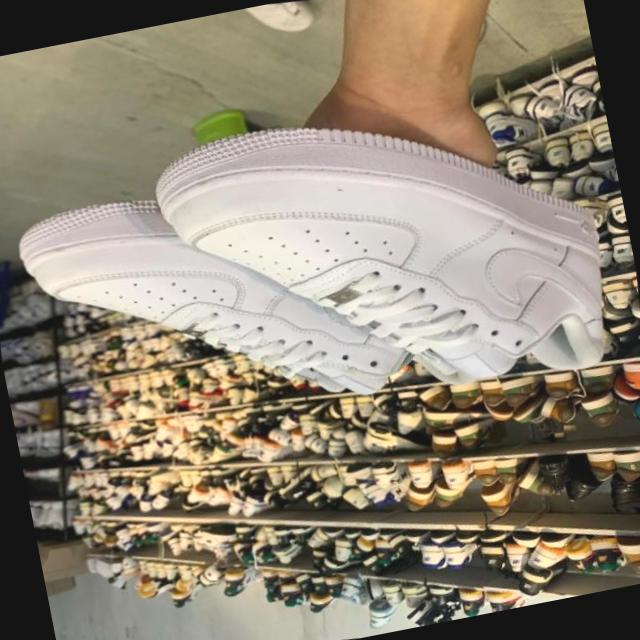nike_fake_airforce: (119, 50, 640, 452), (0, 127, 490, 470)
